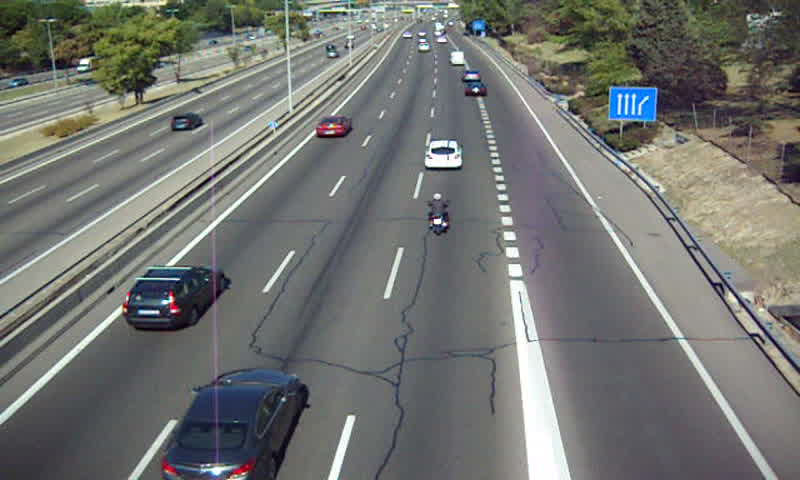car: (162, 370, 304, 480), (122, 266, 227, 331), (426, 140, 462, 170), (316, 115, 350, 137), (461, 69, 482, 84), (464, 83, 488, 96)
motorcycle: (425, 193, 449, 239)
van: (449, 50, 466, 65)
